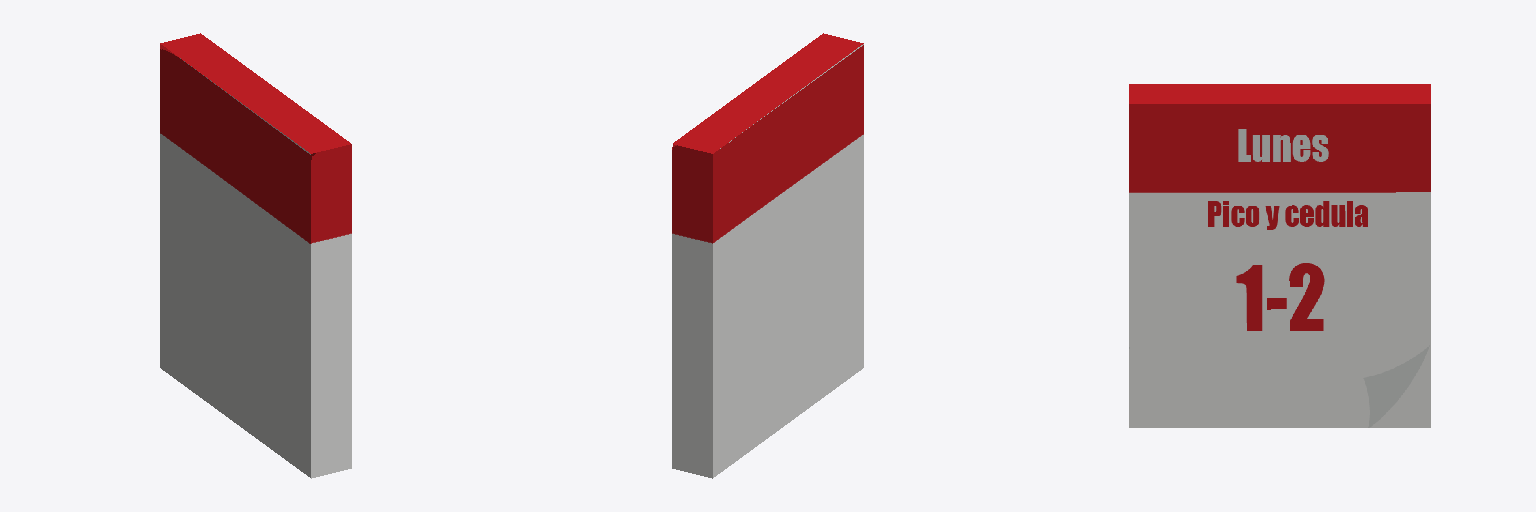
The picture shows the model from 3 angles: view 1: azimuth 30°, elevation 25°; view 2: azimuth 150°, elevation 25°; view 3: azimuth 270°, elevation 25°; orthographic projection.
Parts seen in each view (by area): view 1: Cube; view 2: Cube; view 3: Cube.
Part boxes in pixels (bbox=[...]): Cube: bbox=[160, 33, 351, 478]; Cube: bbox=[672, 33, 863, 478]; Cube: bbox=[1129, 84, 1430, 427].
Bounding box in the file's own units: 0.3127 × 2.37 × 2.
Materials: 1 (1 with a texture image).